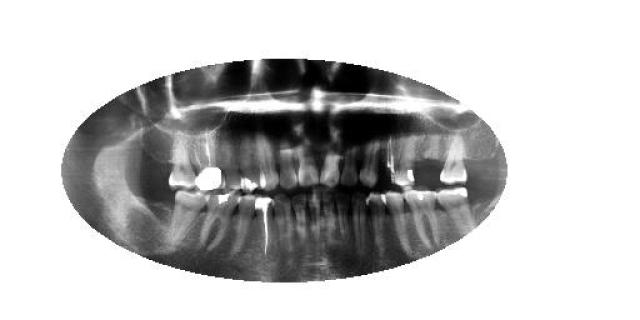Fillings: (199, 191, 241, 250), (404, 189, 438, 250), (435, 188, 477, 236)
Implant: (189, 126, 225, 194), (255, 196, 276, 259)
